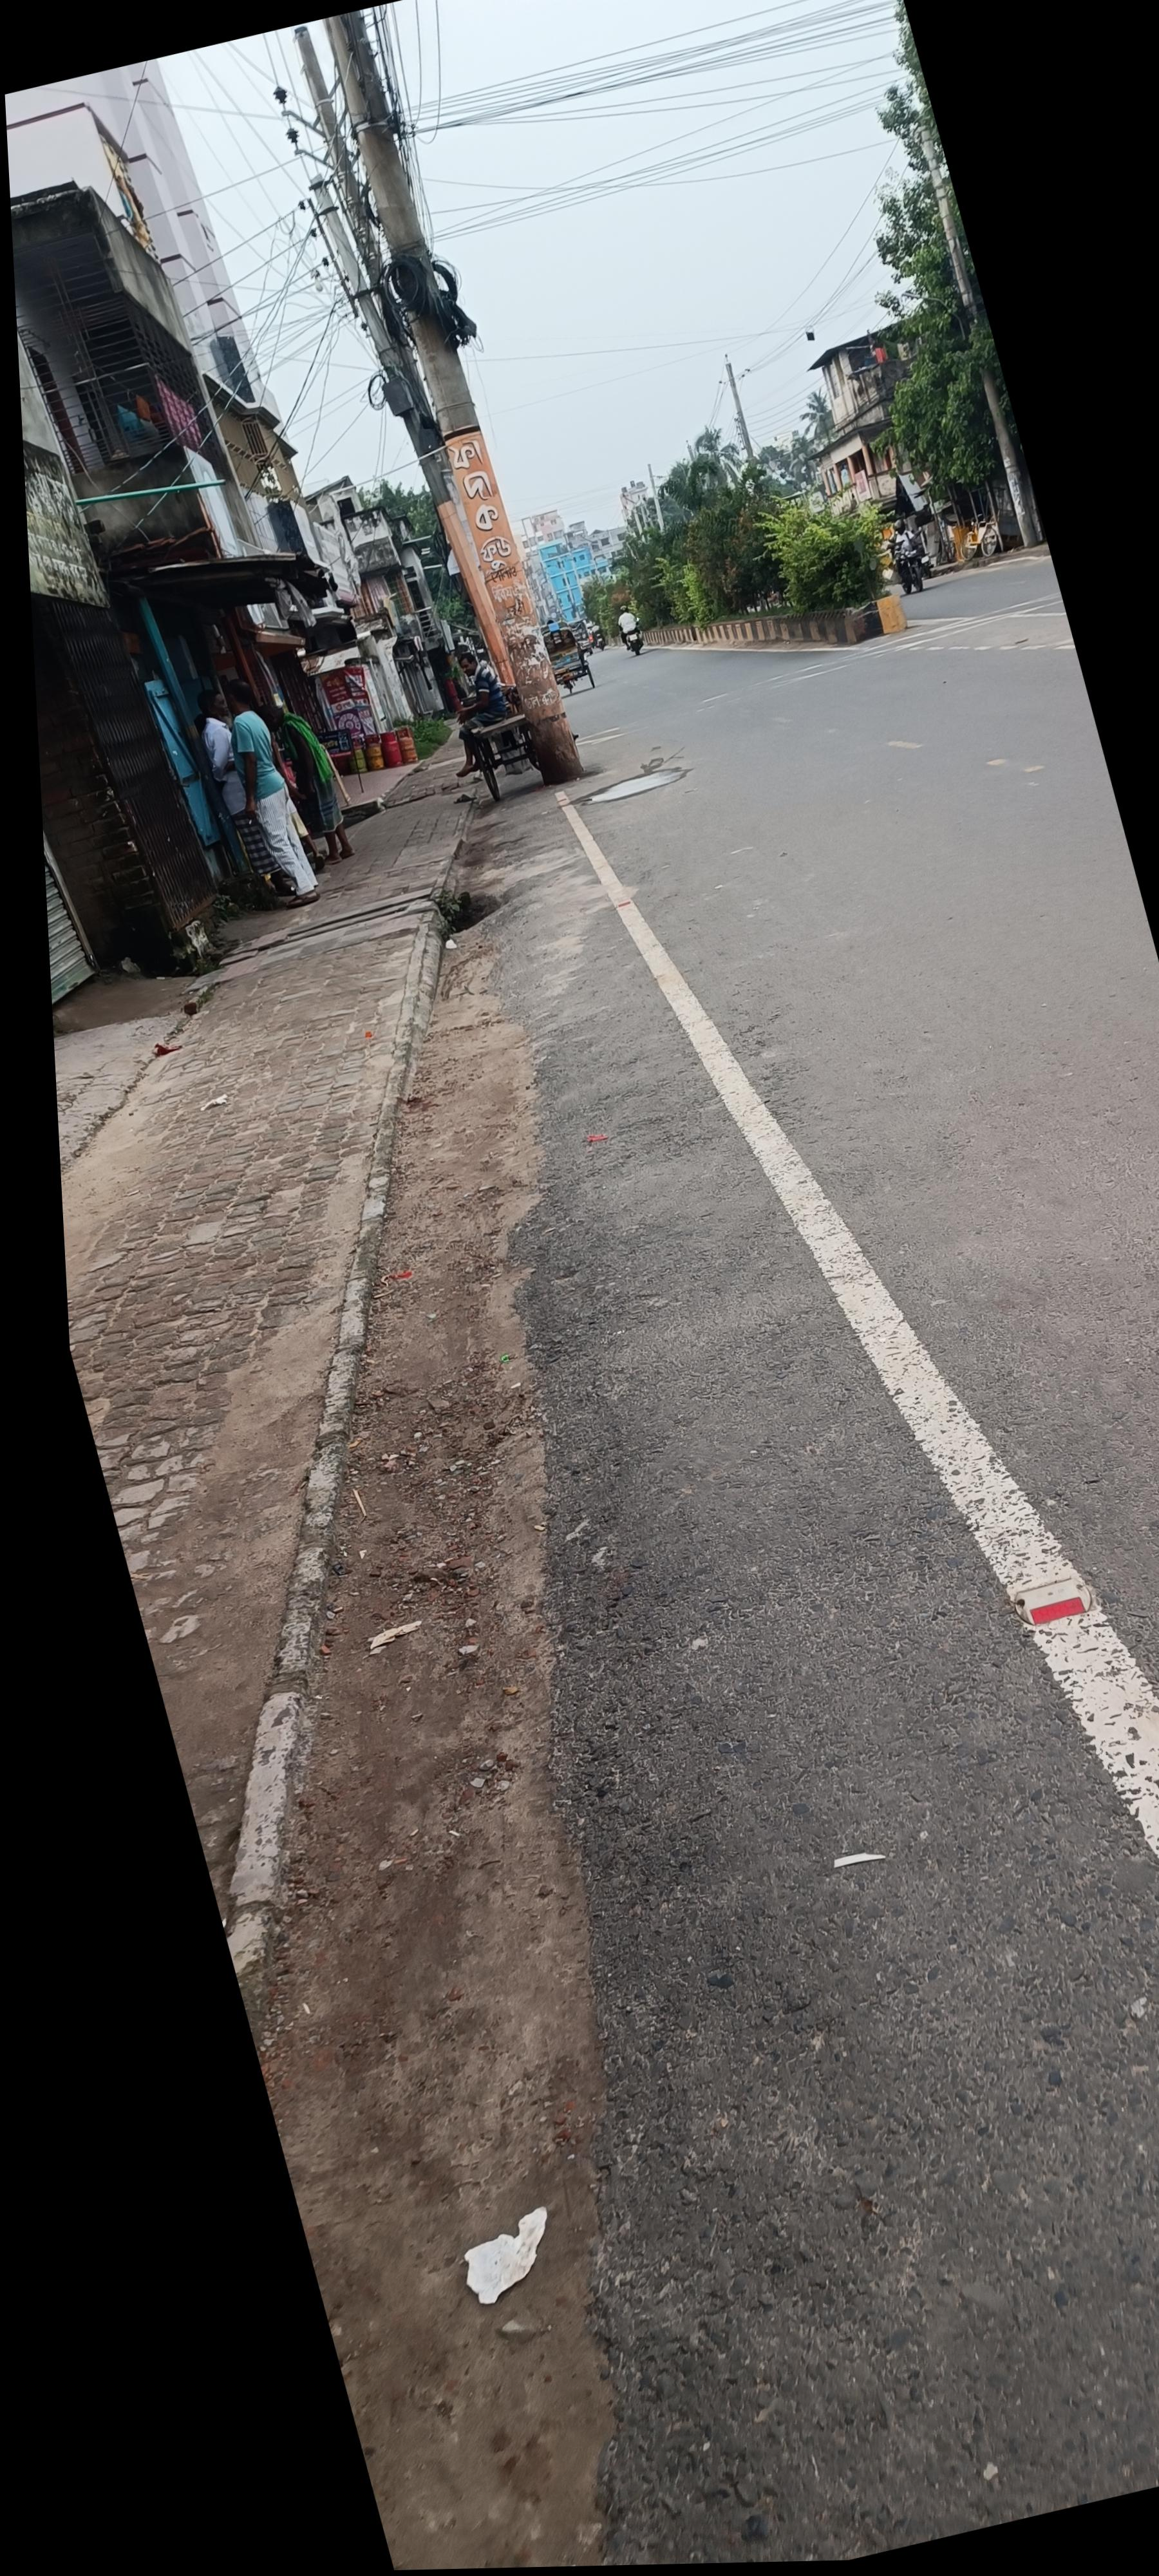Garbage-bin: (34, 835, 115, 1017), (182, 790, 276, 925), (33, 816, 79, 1056)
Light-pole: (113, 274, 353, 935)
Pothole: (43, 1032, 543, 2339)
